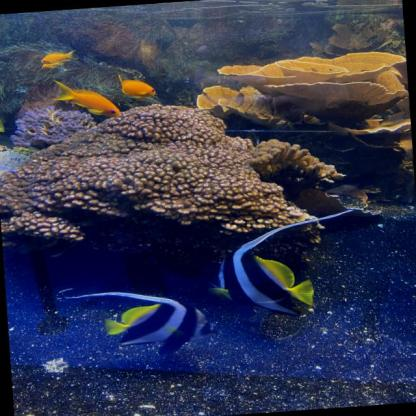fish: (193, 215, 341, 319), (74, 275, 210, 360), (52, 75, 122, 127), (117, 74, 162, 105), (37, 48, 76, 62), (36, 56, 72, 71)
